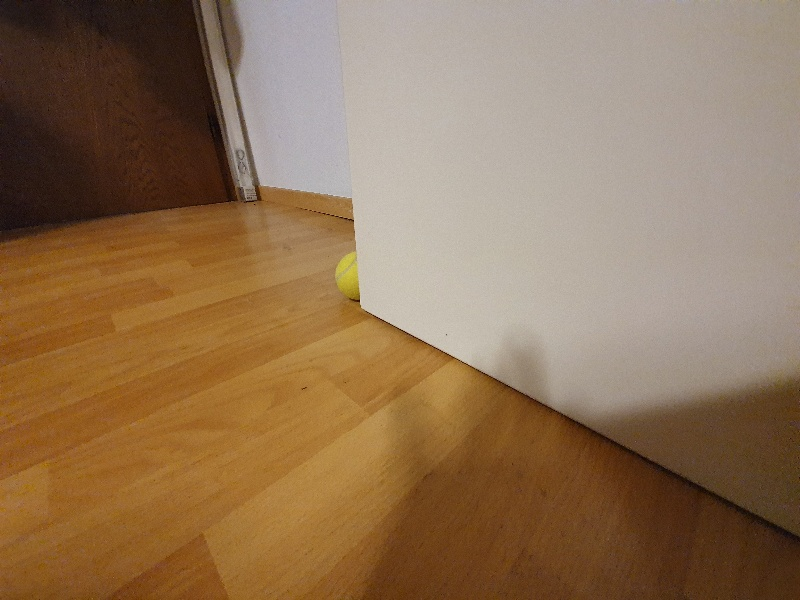Tennisball: (328, 249, 376, 312)
